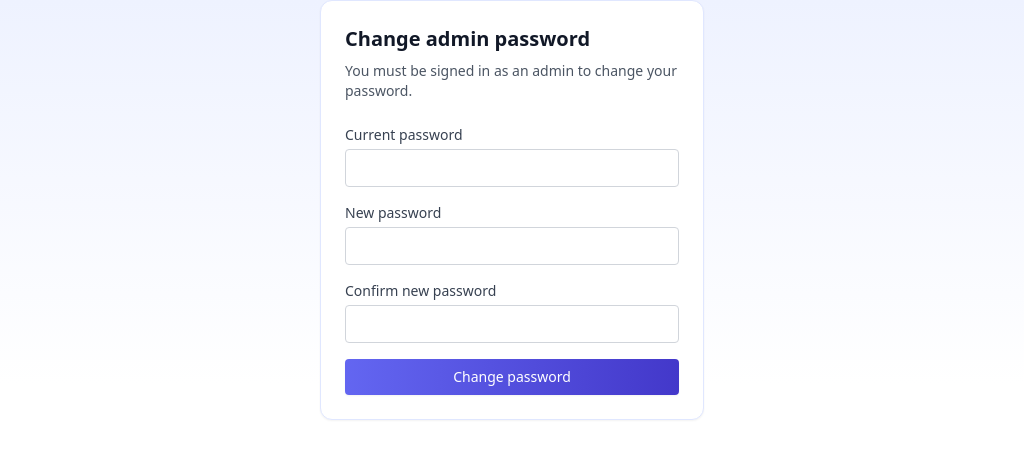
Test: AdminPasswordPage › shows success and clears the fields
Type "old" into the password field labelled "Current password" at (512, 168), box [345,149,679,187]
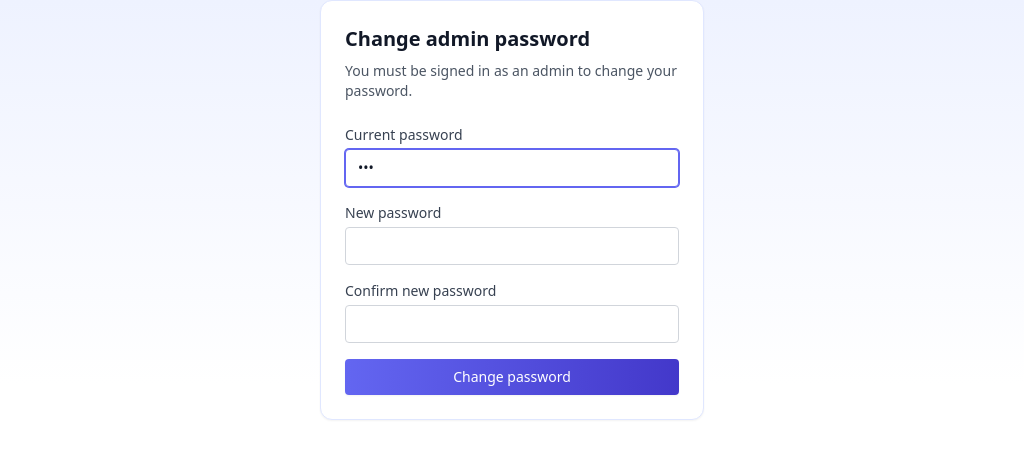
Type "newer" into the password field labelled "New password" at (512, 246), box [345,227,679,265]
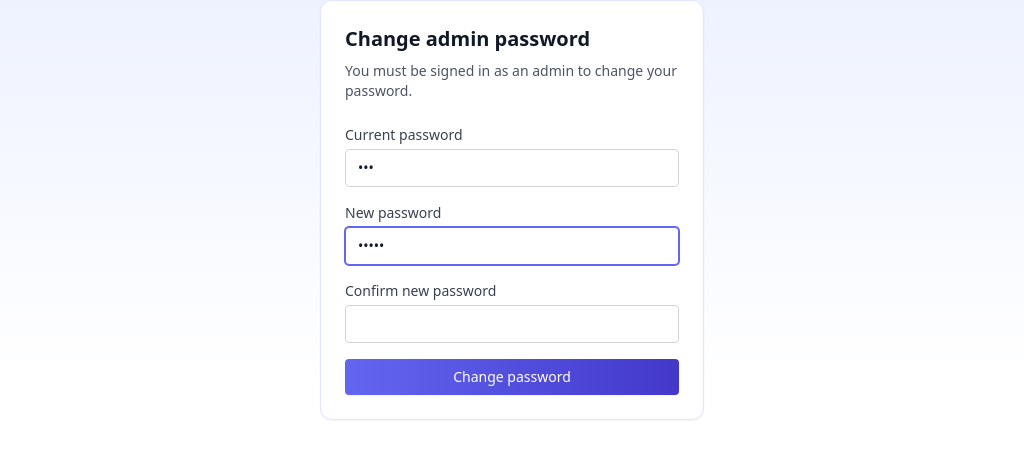
Type "newer" into the password field labelled "Confirm new password" at (512, 324), box [345,305,679,343]
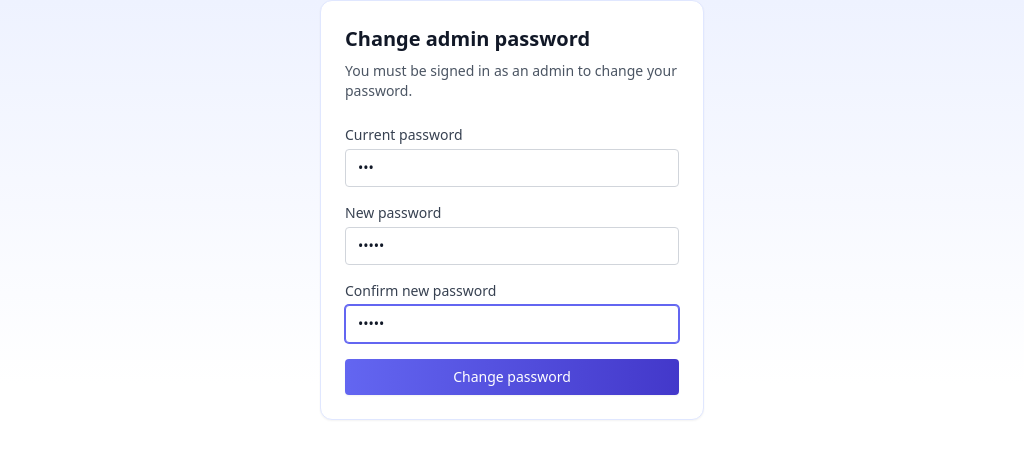
Click the button "Change password" at (512, 377), box [345,359,679,395]
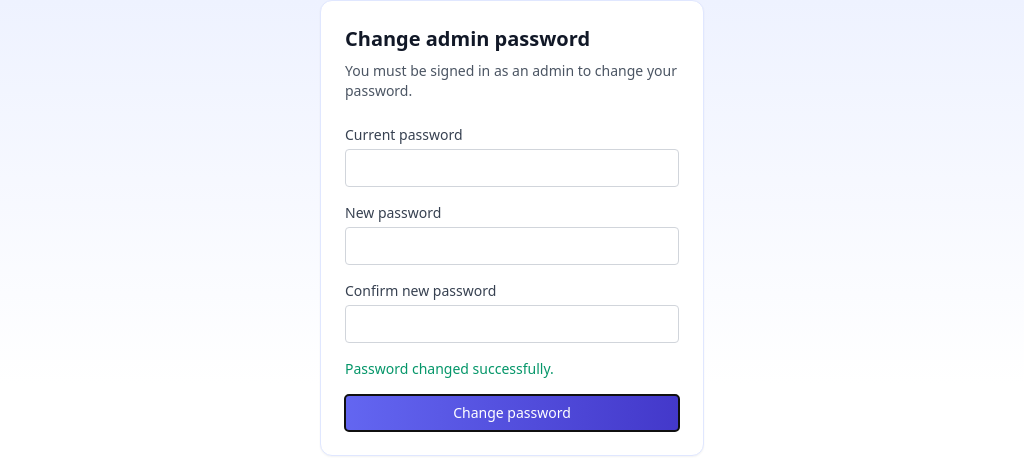
Check: the message shows "changed successfully", box [345,359,554,378]
Check: the password field labelled "Current password" is empty, box [345,149,679,187]
